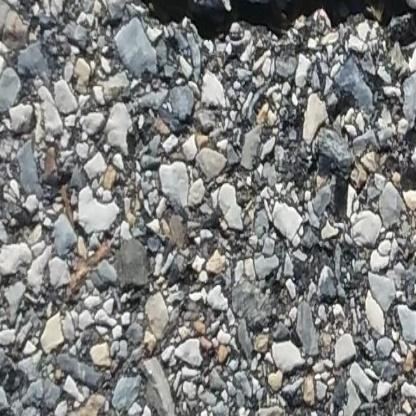Cracks: (126, 0, 416, 39)
